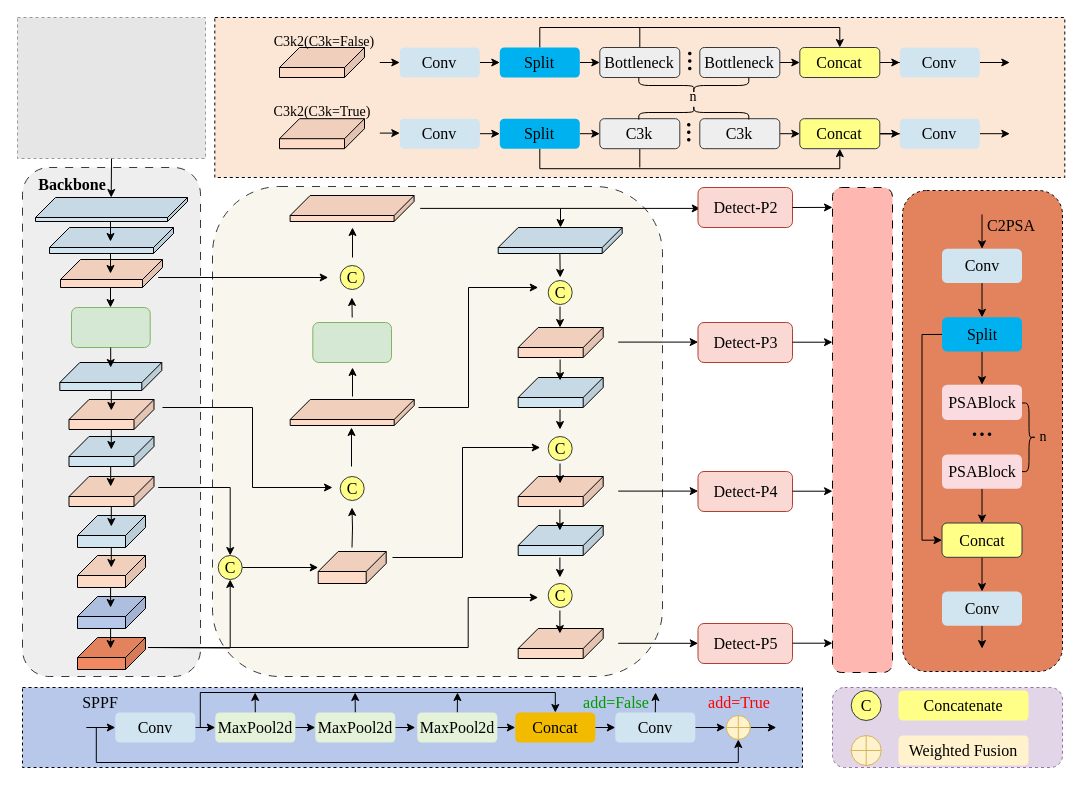
Image size: 1083x788. Some labels were removed from this diagram. Grey dashed boxes stand in for pictures. The shapes that lost their labels are listed below. From the top down, each one's centre as x and y in pixels, then its label:
At point 110,327: "SAFM".
At point 352,342: "DSAM".
At point 862,429: "Detection Head".
